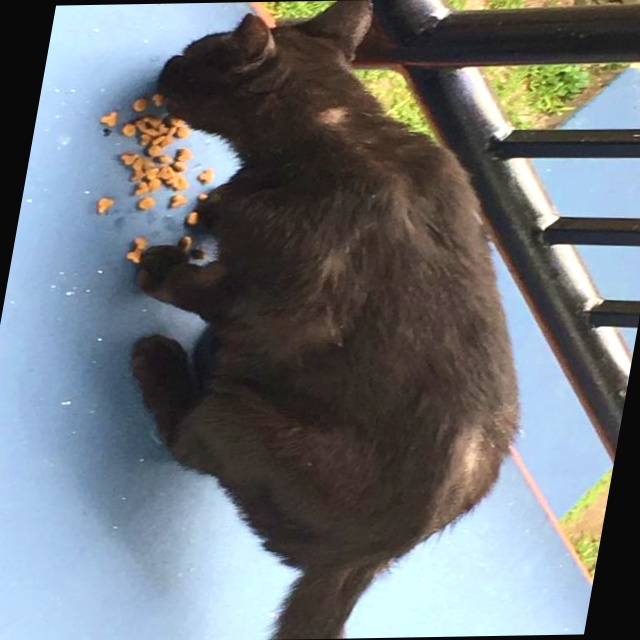hairloss: (456, 430, 493, 483), (320, 109, 354, 122)
